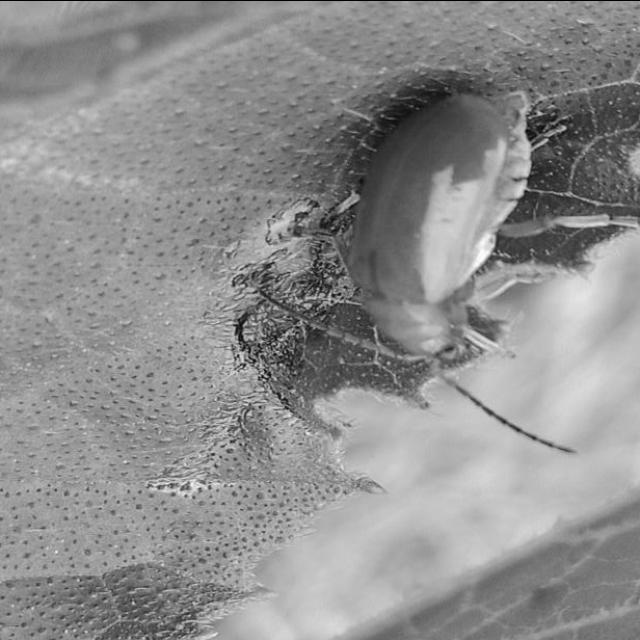Pumpkin Beetle: (246, 89, 640, 460)
